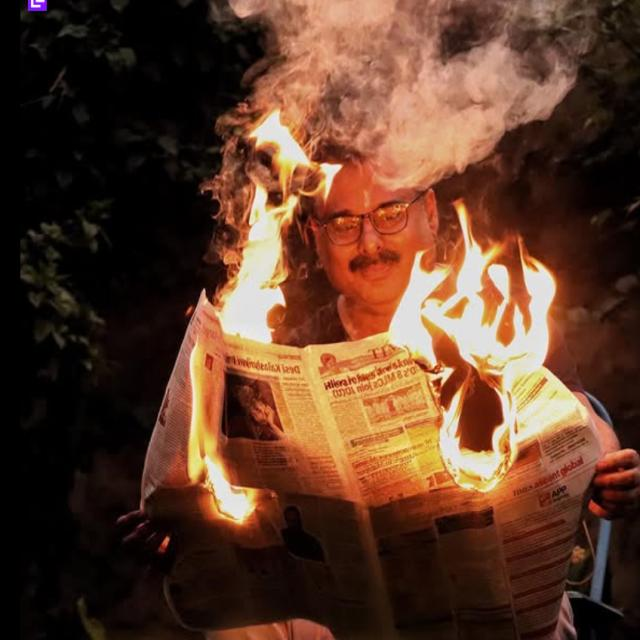fire: (423, 199, 556, 493), (217, 107, 343, 345), (188, 338, 257, 523), (388, 251, 452, 371)
